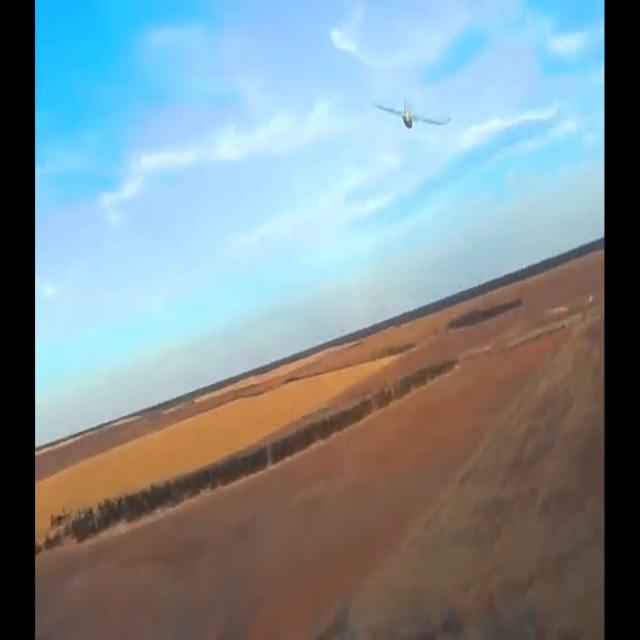iha: (401, 36, 419, 66)
